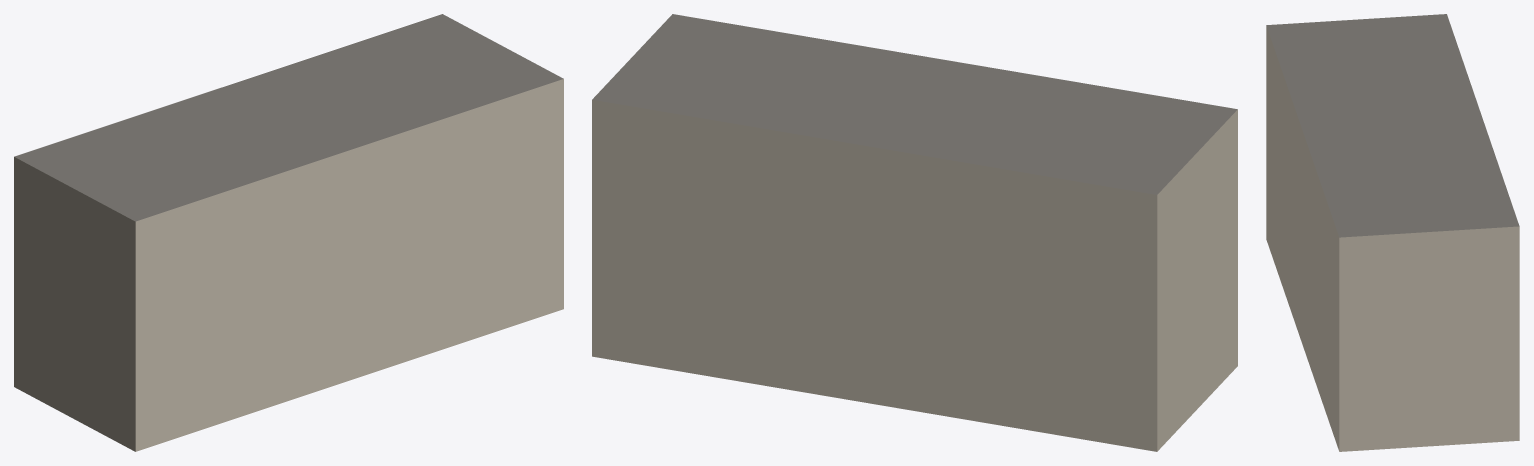
3 renders of one model, left to right at view 1: azimuth 30°, elevation 25°; view 2: azimuth 150°, elevation 25°; view 3: azimuth 270°, elevation 25°, orthographic. The views are drawn at different scales.
Visible parts, largest first — view 1: HP-w442026895; view 2: HP-w442026895; view 3: HP-w442026895.
Boxes of the visible parts, x1,y1,x2,y2 form: HP-w442026895: (14, 14, 563, 451); HP-w442026895: (592, 14, 1237, 451); HP-w442026895: (1266, 14, 1519, 451).
Size of the model in its own units: 40.26 by 18 by 19.27.
